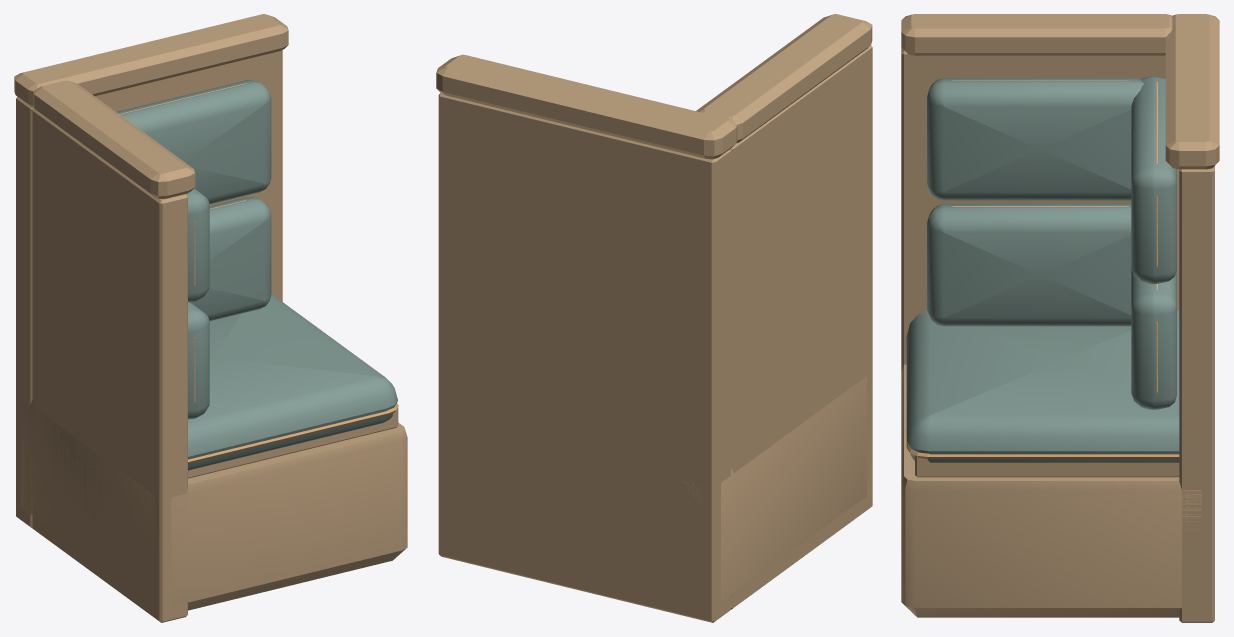
The model's file is bakery-and-cafe-banquette-corner-889f1abc__22206.glb.
3 renders of one model, left to right at view 1: azimuth 30°, elevation 25°; view 2: azimuth 150°, elevation 25°; view 3: azimuth 270°, elevation 25°, orthographic. The views are drawn at different scales.
Visible parts, largest first — view 1: banquette-corner; view 2: banquette-corner; view 3: banquette-corner.
Part boxes in pixels (bbox=[...]): banquette-corner: bbox=[14, 14, 407, 622]; banquette-corner: bbox=[436, 14, 872, 622]; banquette-corner: bbox=[901, 14, 1219, 622].
Size of the model in its own units: 0.7199 by 1.18 by 0.71.
